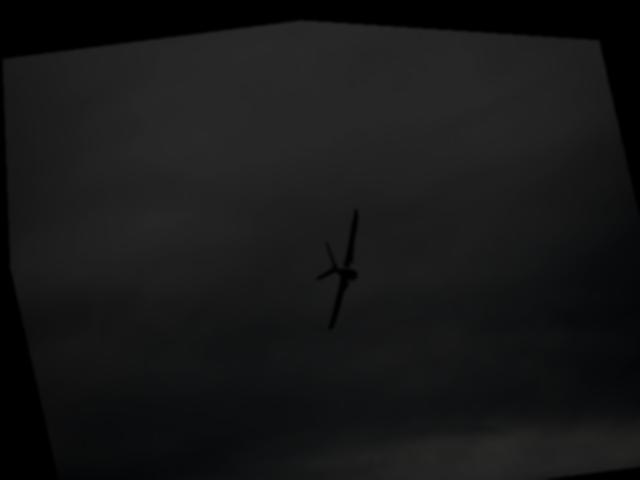plane: (298, 198, 382, 329)
